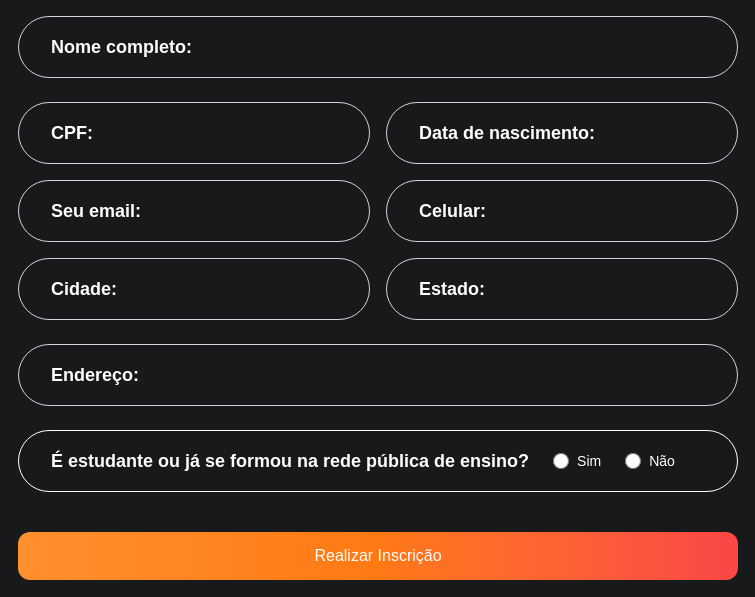
Test: RegistrationForm Component › Form Input Formatting › should format CPF input
Type "12345678901" into the field with placeholder "CPF:". click: (194, 133)
box: x1=18 y1=102 x2=370 y2=164
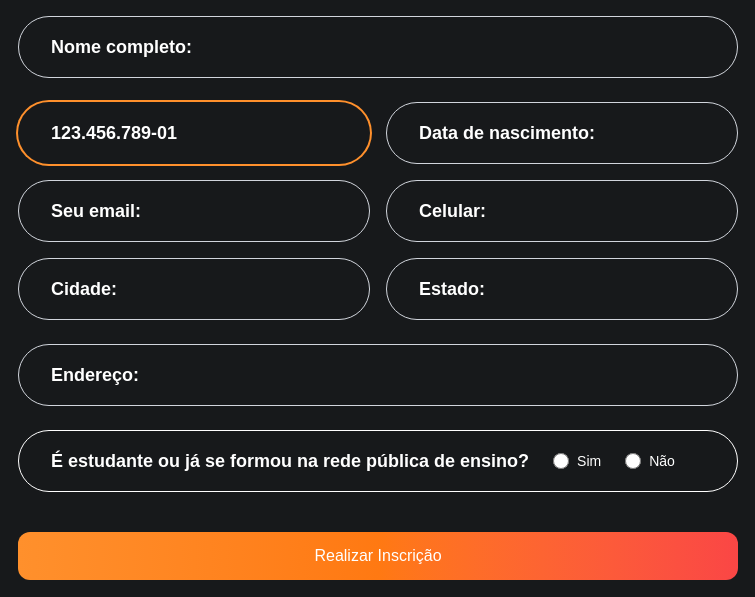
Now the field with placeholder "CPF:" holds "123.456.789-01", box x1=18 y1=102 x2=370 y2=164
